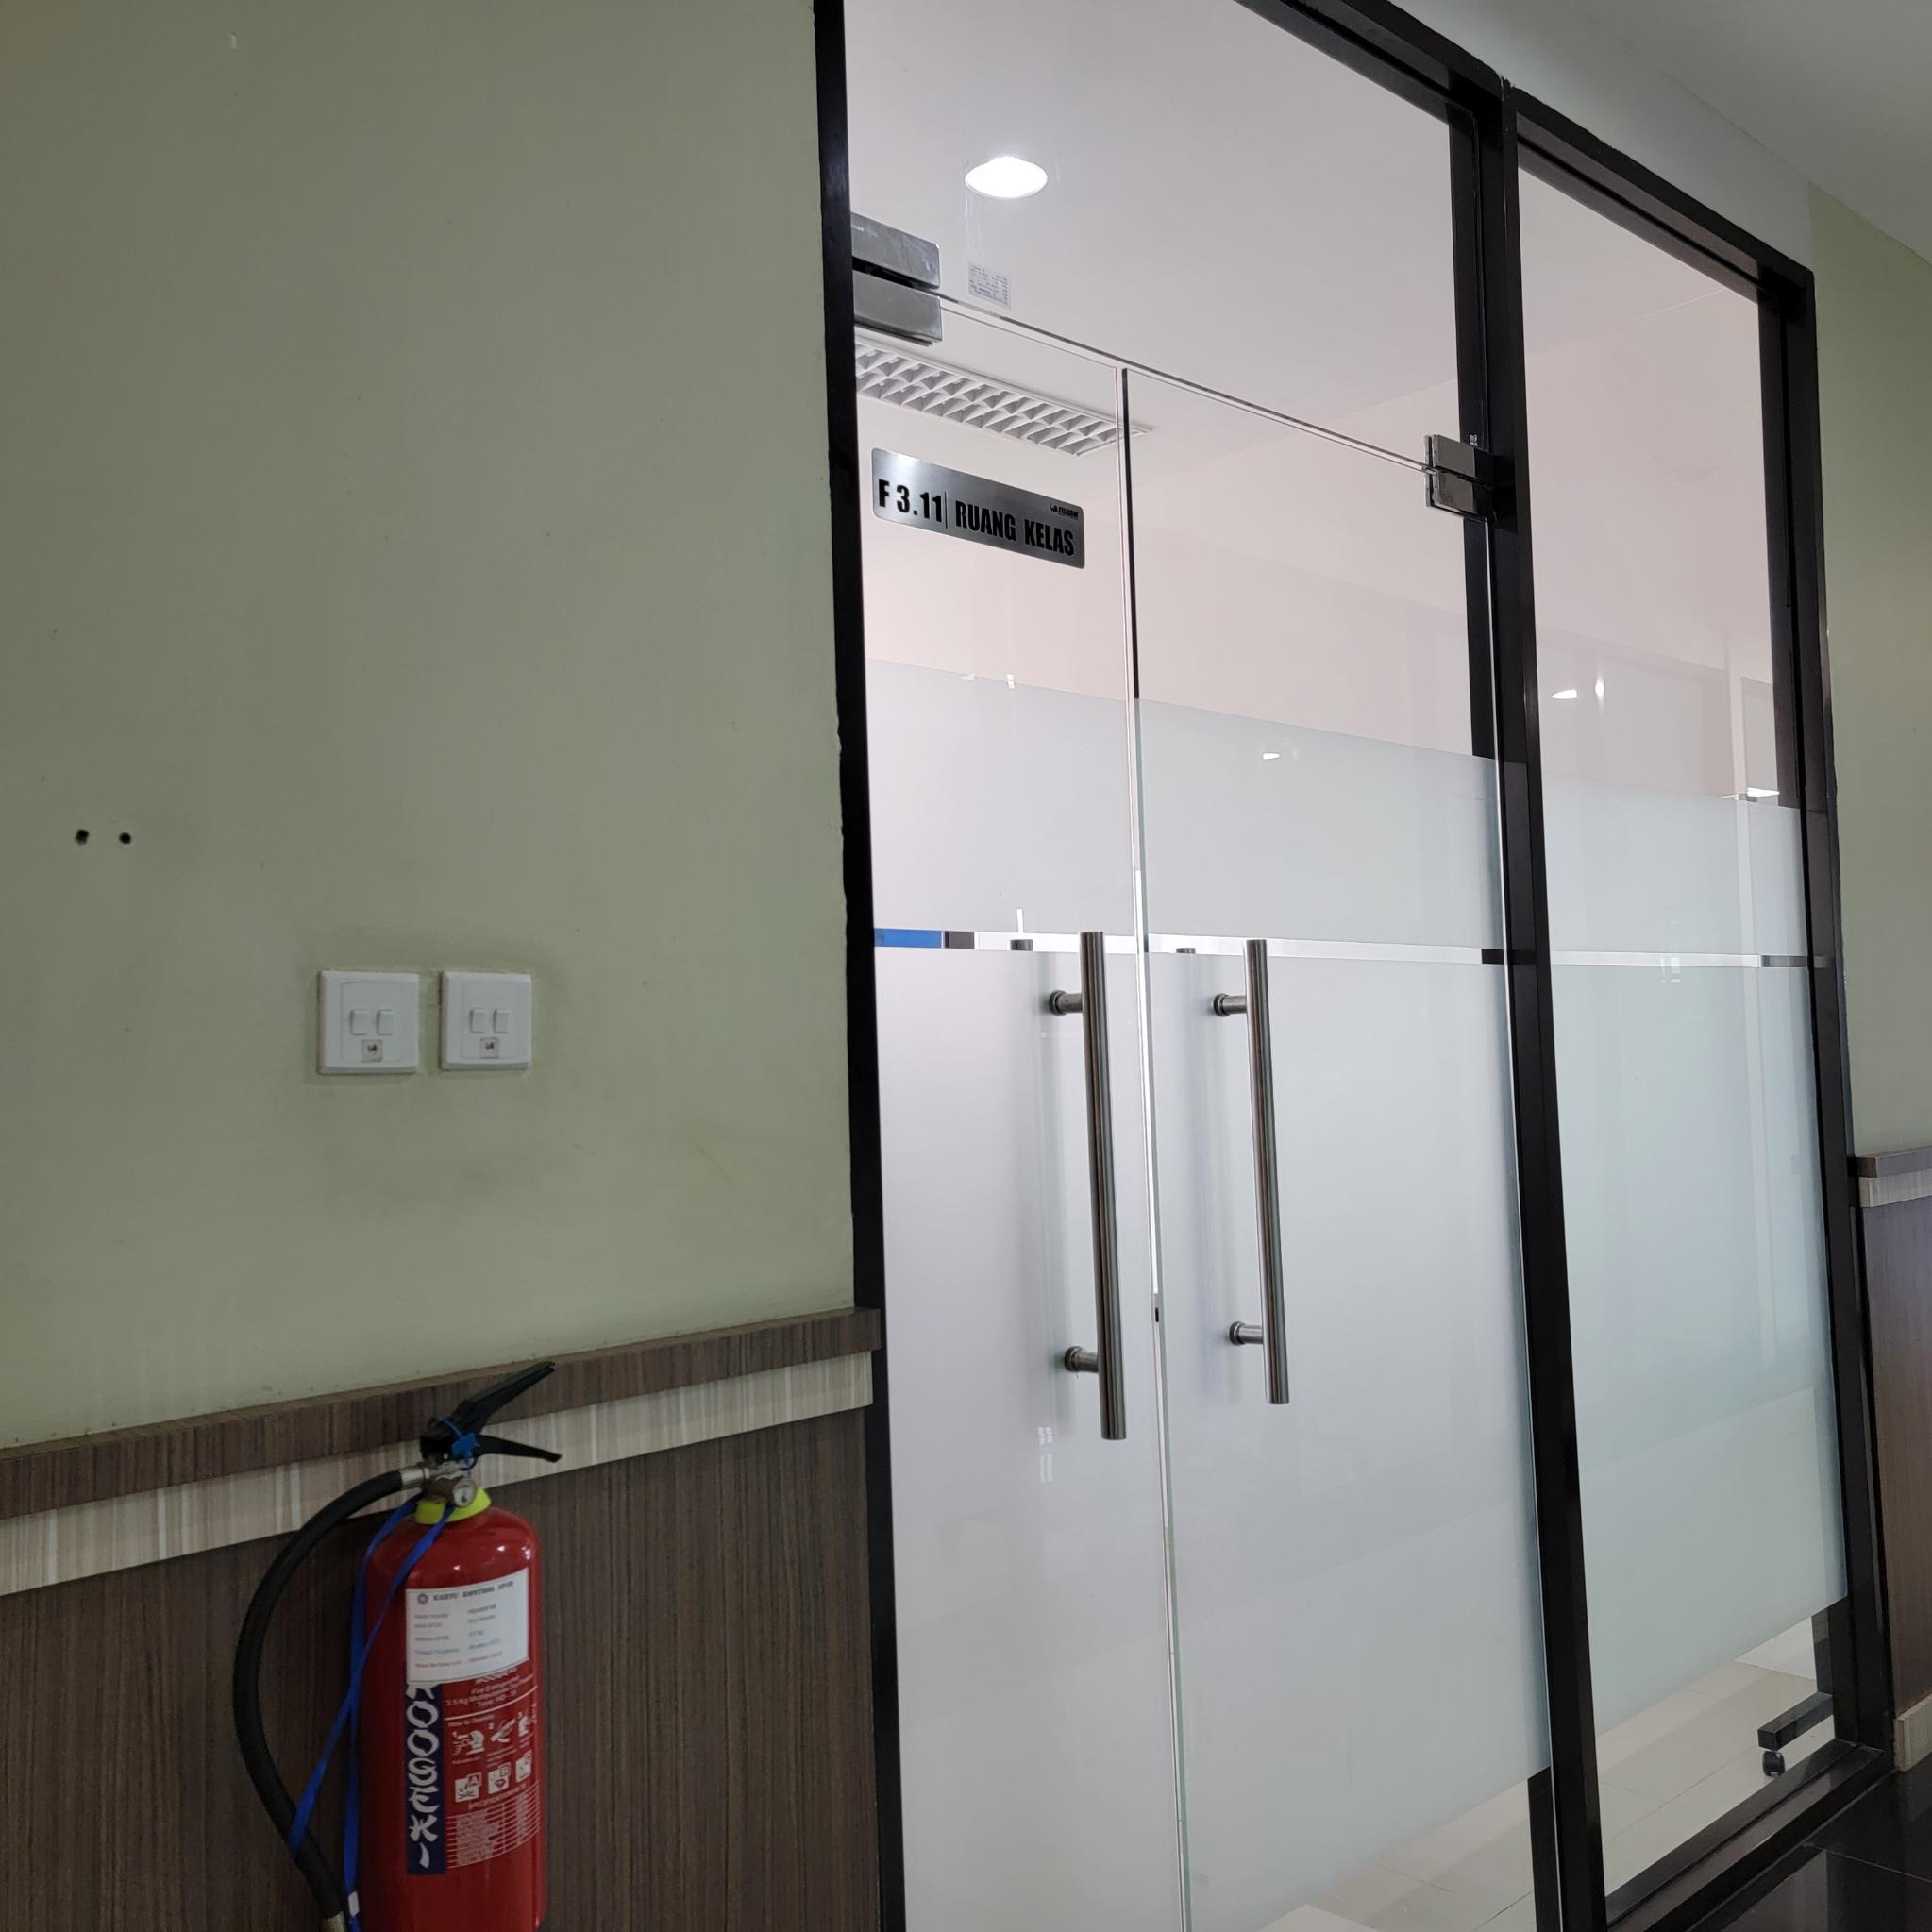plate: (872, 448, 1086, 570)
